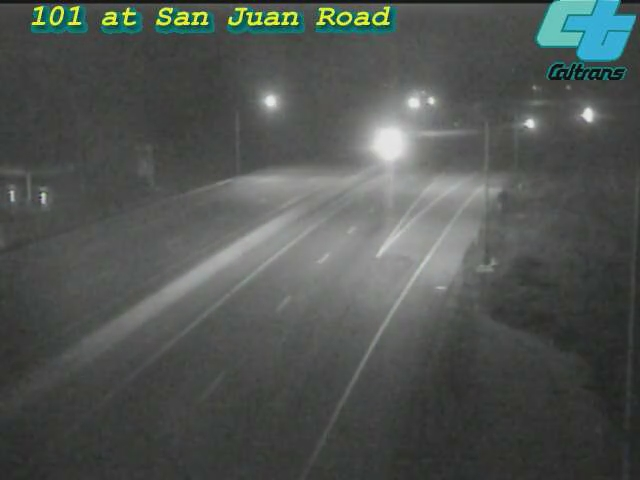vehicle: (359, 118, 409, 168), (506, 98, 556, 148), (560, 90, 610, 140)
